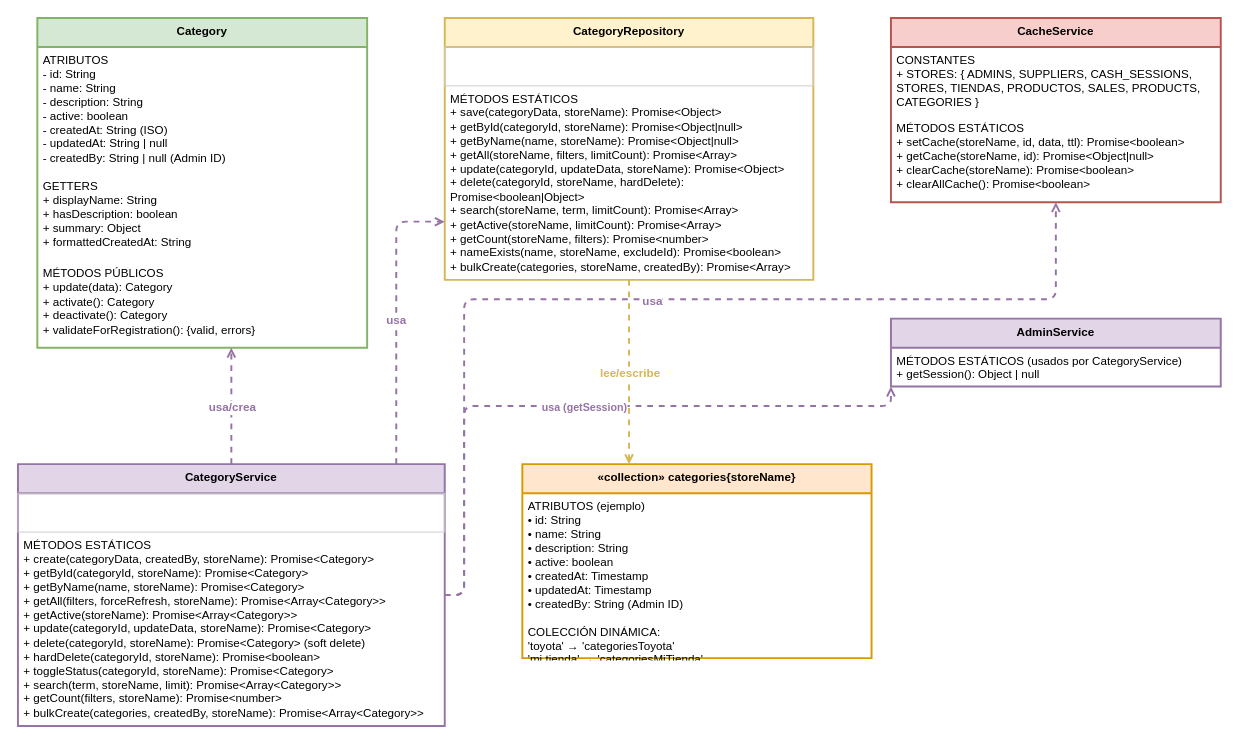
Some shapes in this 1238 by 745 pixel diagram are drawn without their labels. The shapes that lost their labels are listed below. From the top down, each one's centre as x and y in pixels, then its label:
At (628,66): "FUNCIONES PRIVADAS - getCategoriesCollectionName(storeName): String".
At (231,512): "MÉTODOS PRIVADOS - _getStoreName(): String (from AdminService.getSession())".
